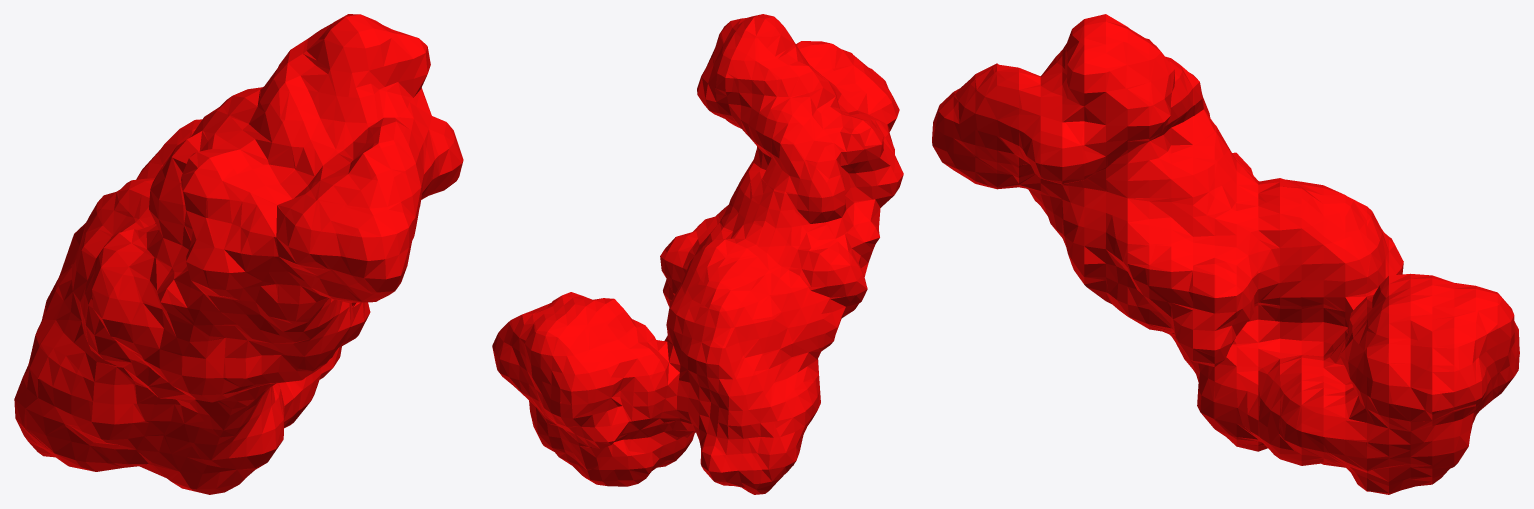
Rendered from ileS_coarse.dae.
The picture shows the model from 3 angles, left to right: view 1: azimuth 30°, elevation 25°; view 2: azimuth 150°, elevation 25°; view 3: azimuth 270°, elevation 25°; orthographic projection. The views are drawn at different scales.
Parts seen in each view (by area): view 1: ileS; view 2: ileS; view 3: ileS.
Part boxes in pixels (box(x1,y1,x2,y2)): ileS: box(14, 14, 463, 494); ileS: box(492, 14, 903, 494); ileS: box(932, 14, 1519, 494).
Size of the model in its own units: 79.09 by 105 by 123.
